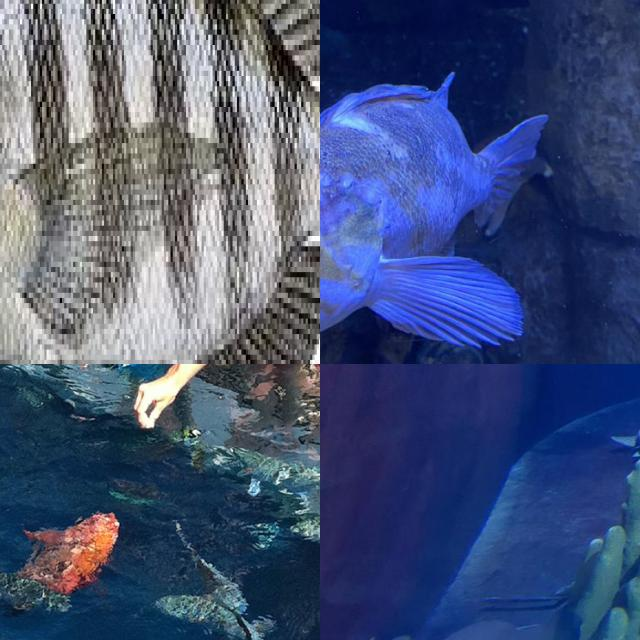fish: (0, 0, 320, 364), (320, 73, 558, 364), (171, 513, 244, 612)
